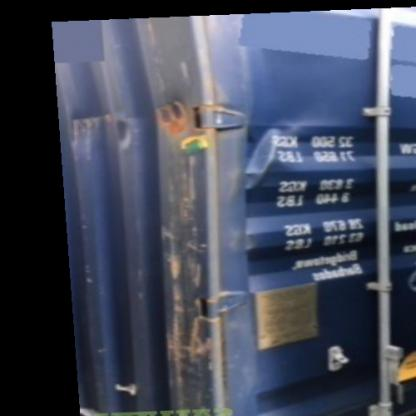Damage: (129, 26, 238, 415), (256, 112, 310, 192)
